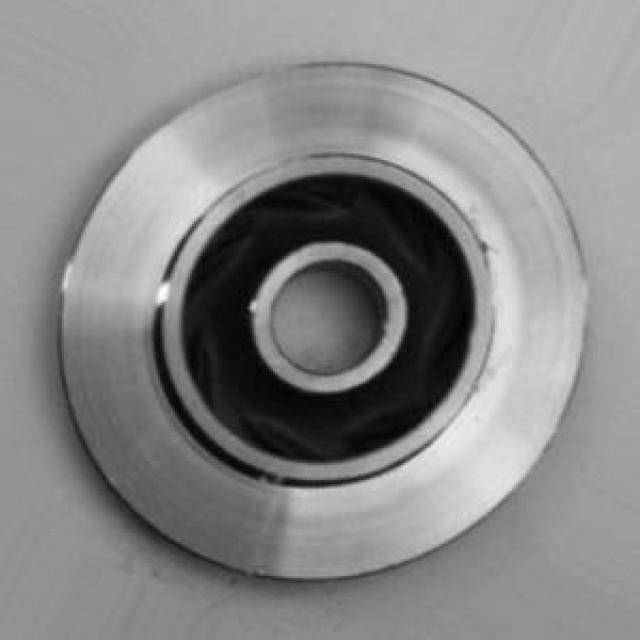Defect: (472, 230, 500, 268)
